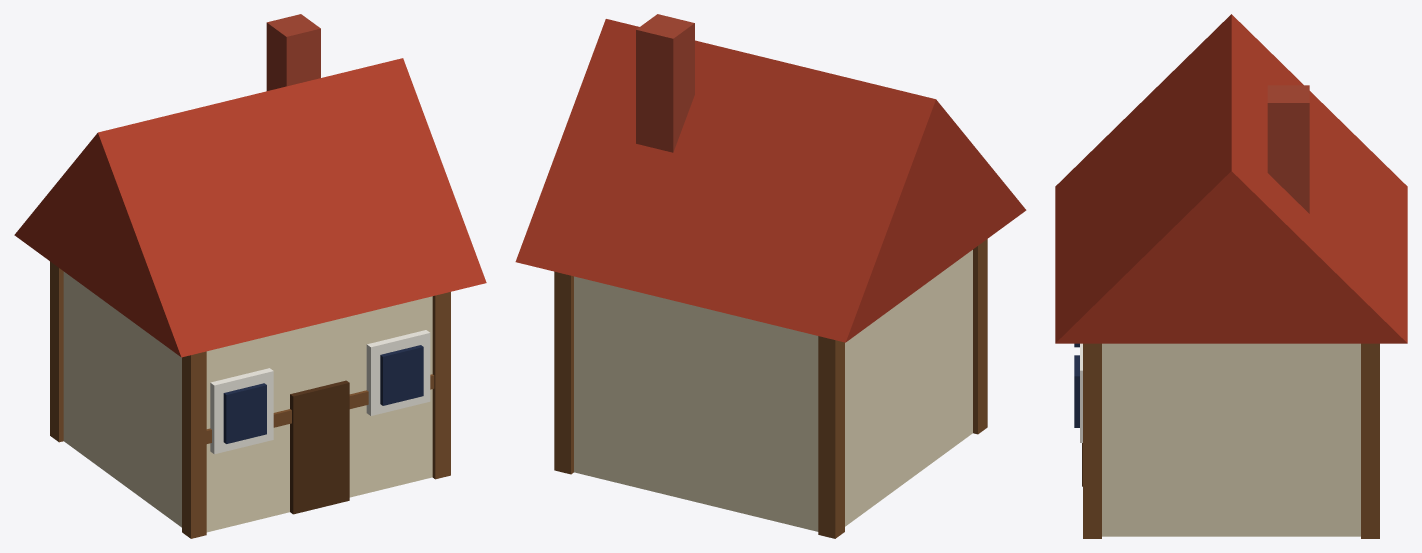
File: dom.glb
3 views of the same model, side by side, from view 1: azimuth 30°, elevation 25°; view 2: azimuth 150°, elevation 25°; view 3: azimuth 270°, elevation 25° (orthographic). The views are drawn at different scales.
Visible parts, largest first — view 1: dom; view 2: dom; view 3: dom.
Boxes of the visible parts, x1,y1,x2,y2 form: dom: (14,14,486,538); dom: (515,14,1026,538); dom: (1055,14,1407,538).
Bounding box in the file's own units: 1.95 × 2.4 × 1.85.
